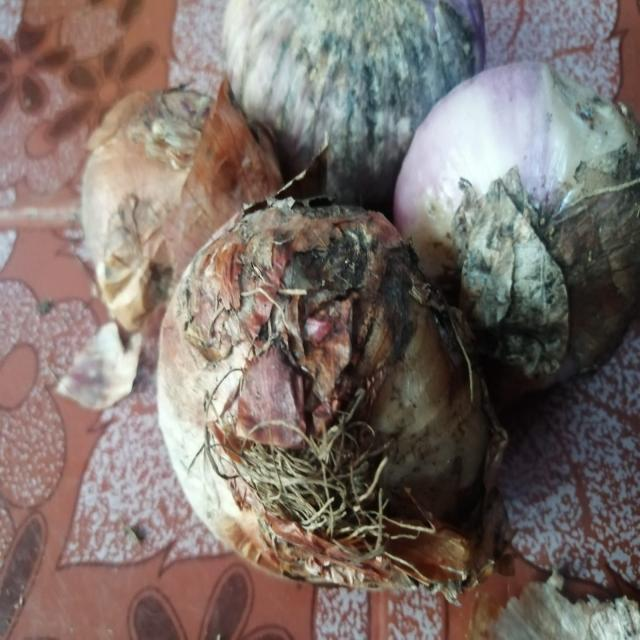rotten: (276, 224, 414, 364), (328, 30, 432, 126), (501, 164, 554, 306)
